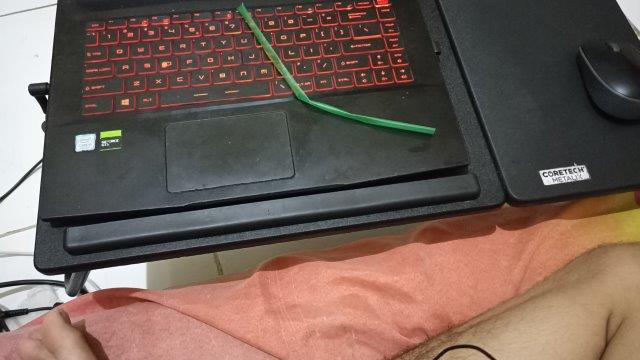sedotan: (238, 6, 435, 134)
